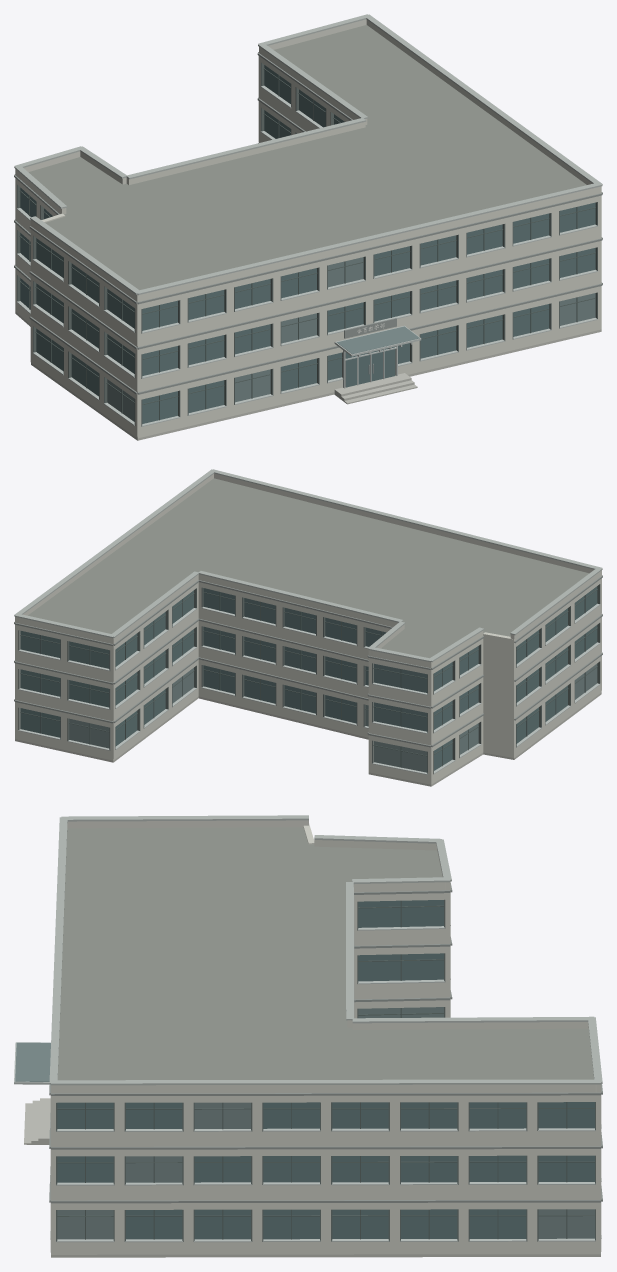
The model's file is sports_teaching_office.glb.
3 renders of one model, top to bottom at view 1: azimuth 30°, elevation 25°; view 2: azimuth 150°, elevation 25°; view 3: azimuth 270°, elevation 25°, orthographic. The views are drawn at different scales.
Visible parts, largest first — view 1: sports_teaching_office_FacultyRoof, sports_teaching_office_DormPale, sports_teaching_office_WindowGlass, sports_teaching_office_Teaching5TileJoint, sports_teaching_office_FacultyDarkPanel, sports_teaching_office_WindowAluminium, sports_teaching_office_WindowReveal, sports_teaching_office_WindowGlassLight, sports_teaching_office_WindowRubber, sports_teaching_office_EntryStone; view 2: sports_teaching_office_FacultyRoof, sports_teaching_office_DormPale, sports_teaching_office_WindowGlass, sports_teaching_office_Teaching5TileJoint, sports_teaching_office_FacultyDarkPanel, sports_teaching_office_WindowAluminium, sports_teaching_office_WindowReveal, sports_teaching_office_WindowGlassLight, sports_teaching_office_WindowRubber, sports_teaching_office_EntryStone; view 3: sports_teaching_office_FacultyRoof, sports_teaching_office_DormPale, sports_teaching_office_WindowGlass, sports_teaching_office_Teaching5TileJoint, sports_teaching_office_WindowGlassLight, sports_teaching_office_FacultyDarkPanel, sports_teaching_office_WindowAluminium, sports_teaching_office_WindowRubber, sports_teaching_office_EntryStone, sports_teaching_office_WindowReveal.
Part boxes in pixels (x1=…): sports_teaching_office_FacultyRoof: x1=28, y1=25, x2=586, y2=290; sports_teaching_office_DormPale: x1=15, y1=19, x2=601, y2=438; sports_teaching_office_WindowGlass: x1=20, y1=65, x2=595, y2=423; sports_teaching_office_Teaching5TileJoint: x1=14, y1=14, x2=602, y2=295; sports_teaching_office_FacultyDarkPanel: x1=14, y1=52, x2=602, y2=394; sports_teaching_office_WindowAluminium: x1=16, y1=85, x2=597, y2=426; sports_teaching_office_WindowReveal: x1=17, y1=62, x2=597, y2=426; sports_teaching_office_WindowGlassLight: x1=107, y1=257, x2=595, y2=421; sports_teaching_office_WindowRubber: x1=19, y1=68, x2=595, y2=420; sports_teaching_office_EntryStone: x1=15, y1=311, x2=601, y2=440; sports_teaching_office_FacultyRoof: x1=28, y1=478, x2=588, y2=658; sports_teaching_office_DormPale: x1=15, y1=473, x2=601, y2=784; sports_teaching_office_WindowGlass: x1=20, y1=586, x2=597, y2=770; sports_teaching_office_Teaching5TileJoint: x1=14, y1=469, x2=602, y2=662; sports_teaching_office_FacultyDarkPanel: x1=14, y1=575, x2=602, y2=747; sports_teaching_office_WindowAluminium: x1=18, y1=603, x2=600, y2=774; sports_teaching_office_WindowReveal: x1=18, y1=584, x2=600, y2=774; sports_teaching_office_WindowGlassLight: x1=69, y1=663, x2=597, y2=772; sports_teaching_office_WindowRubber: x1=20, y1=589, x2=597, y2=767; sports_teaching_office_EntryStone: x1=15, y1=692, x2=601, y2=786; sports_teaching_office_FacultyRoof: x1=57, y1=827, x2=594, y2=1080; sports_teaching_office_DormPale: x1=50, y1=820, x2=601, y2=1254; sports_teaching_office_WindowGlass: x1=57, y1=900, x2=594, y2=1239; sports_teaching_office_Teaching5TileJoint: x1=49, y1=815, x2=602, y2=1085; sports_teaching_office_WindowGlassLight: x1=15, y1=1007, x2=594, y2=1239; sports_teaching_office_FacultyDarkPanel: x1=49, y1=883, x2=602, y2=1203; sports_teaching_office_WindowAluminium: x1=14, y1=925, x2=601, y2=1242; sports_teaching_office_WindowRubber: x1=57, y1=900, x2=594, y2=1239; sports_teaching_office_EntryStone: x1=24, y1=1098, x2=600, y2=1257; sports_teaching_office_WindowReveal: x1=56, y1=899, x2=595, y2=1241.
Size of the model in its own units: 37.62 by 11.42 by 34.87.
